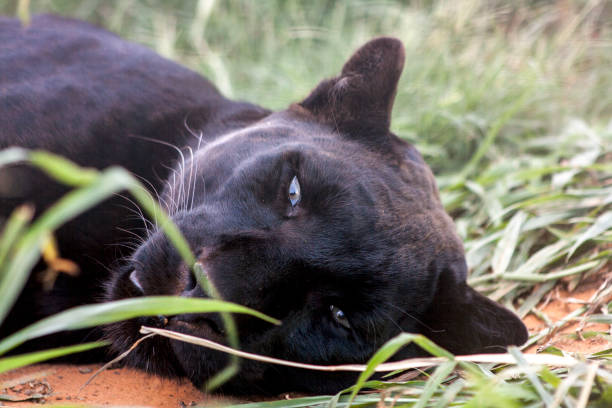panther: (84, 23, 555, 401)
